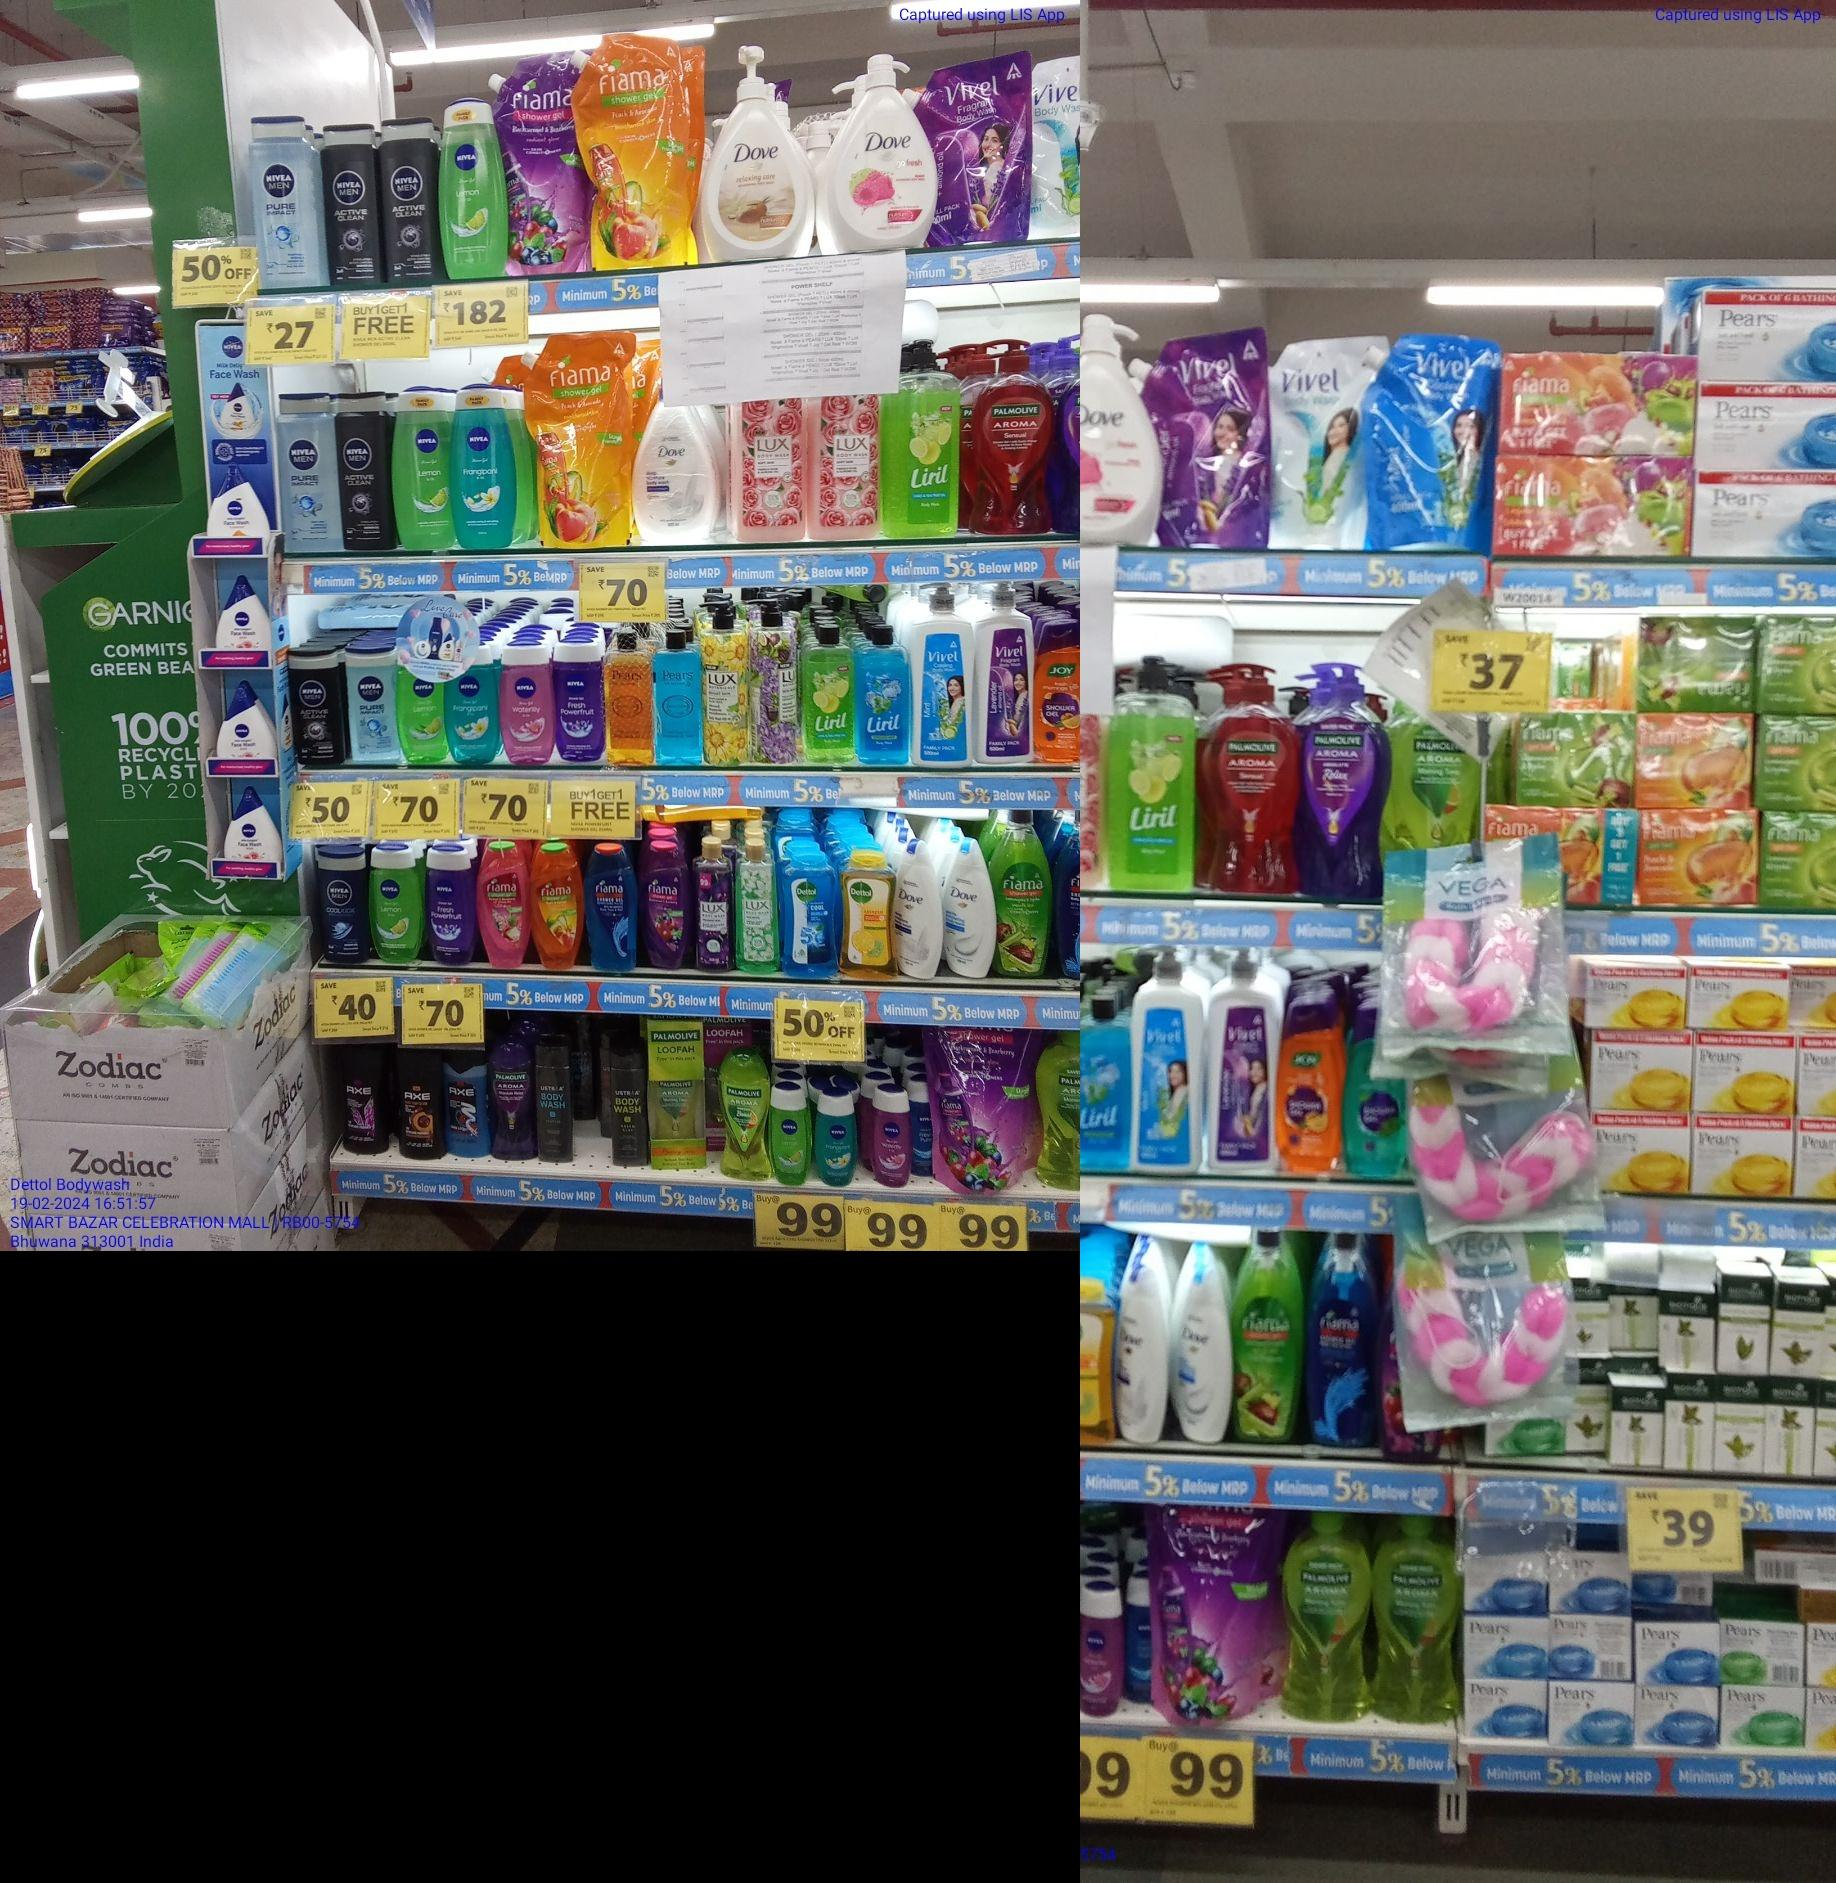Dettol_Bodywash_Cool: (780, 851, 839, 978)
Dettol_Bodywash_Refresh: (837, 847, 893, 980)
Fiama_Shower_Gel_Patchouli_and_Macadamia_250ML: (477, 842, 528, 970)
Fiama_Shower_Gel_Peach_and_Avocado_250ML: (530, 842, 583, 970)
Liril_Cooling_Mint_Body_Wash_250ML: (854, 624, 911, 765)
Liril_Lime_and_Tea_Tree_Oil_Body_Wash_250ML: (802, 624, 854, 765)
Lux_Black_Orchid_Scent_and_Juniper_Oil_Body_Wash_245ML: (689, 834, 731, 970)
Lux_Body_Wash_Skin_Detox_Freesia_Scent_and_Alove_Vera_245ML: (733, 836, 777, 975)
Nivea_Shower_Gel_Frangipani_and_Oil_250ML: (451, 380, 516, 548)
Nivea_Shower_Gel_Lemon_and_Oil_250ML: (435, 94, 504, 281), (392, 383, 451, 551)
Palmolive_Aroma_Morning_Tonic_Shower_Gel_250ML: (716, 1044, 772, 1180)
Palmolive_Aroma_Relax_250ML: (489, 1036, 535, 1162)
Pears_Pure_Glycerin_and_Mint_Extracts_Body_Wash_250ML: (654, 629, 703, 768)
